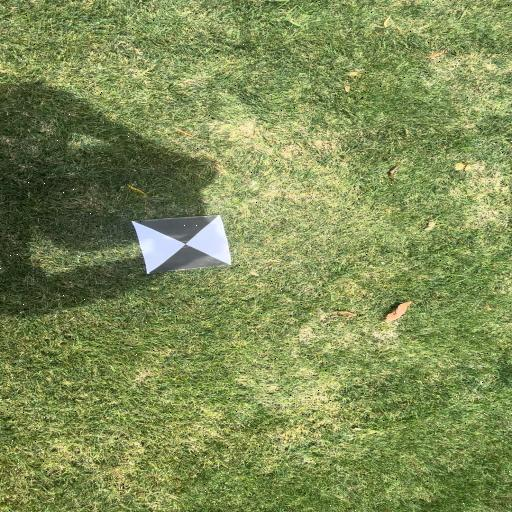target: (132, 215, 232, 274)
